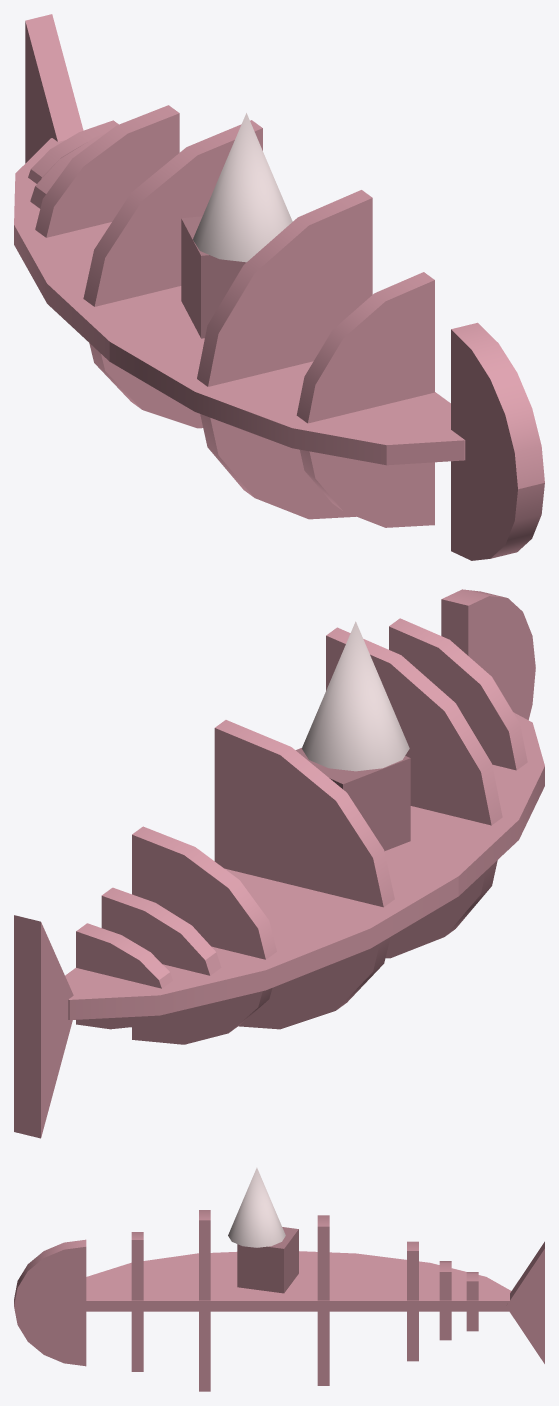
Rendered from Furn4_bookcase_right_color3.fbx.
3 renders of one model, top to bottom at view 1: azimuth 30°, elevation 25°; view 2: azimuth 150°, elevation 25°; view 3: azimuth 270°, elevation 25°, orthographic. The views are drawn at different scales.
Visible parts, largest first — view 1: Куб.263; view 2: Куб.263; view 3: Куб.263.
Boxes of the visible parts, x1,y1,x2,y2 form: Куб.263: (14, 14, 544, 560); Куб.263: (14, 589, 544, 1138); Куб.263: (14, 1167, 544, 1391).
Size of the model in its own units: 54.56 by 103 by 242.
